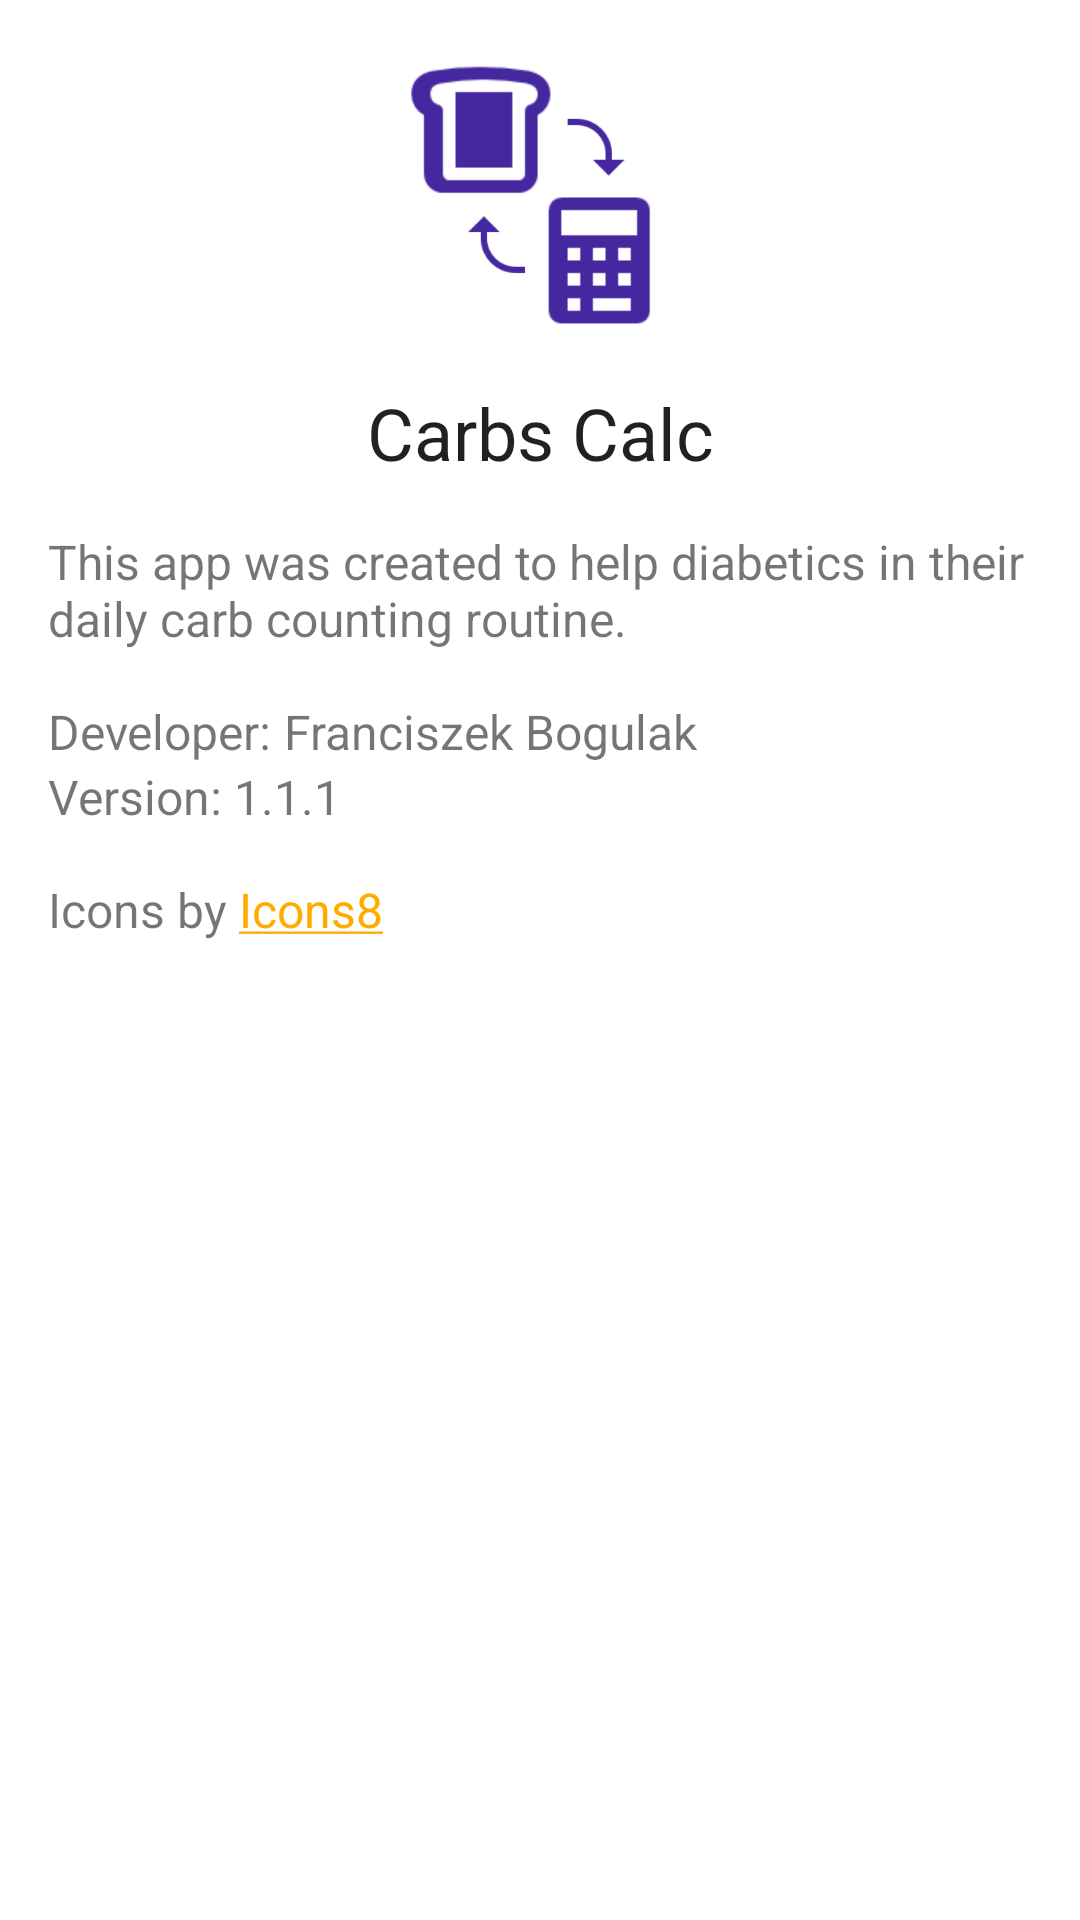

Where to tap for icons on this 1080 x 1920 app screen, as (x,y):
Slice of bread and calc with two rounded arrows: (530,195)
